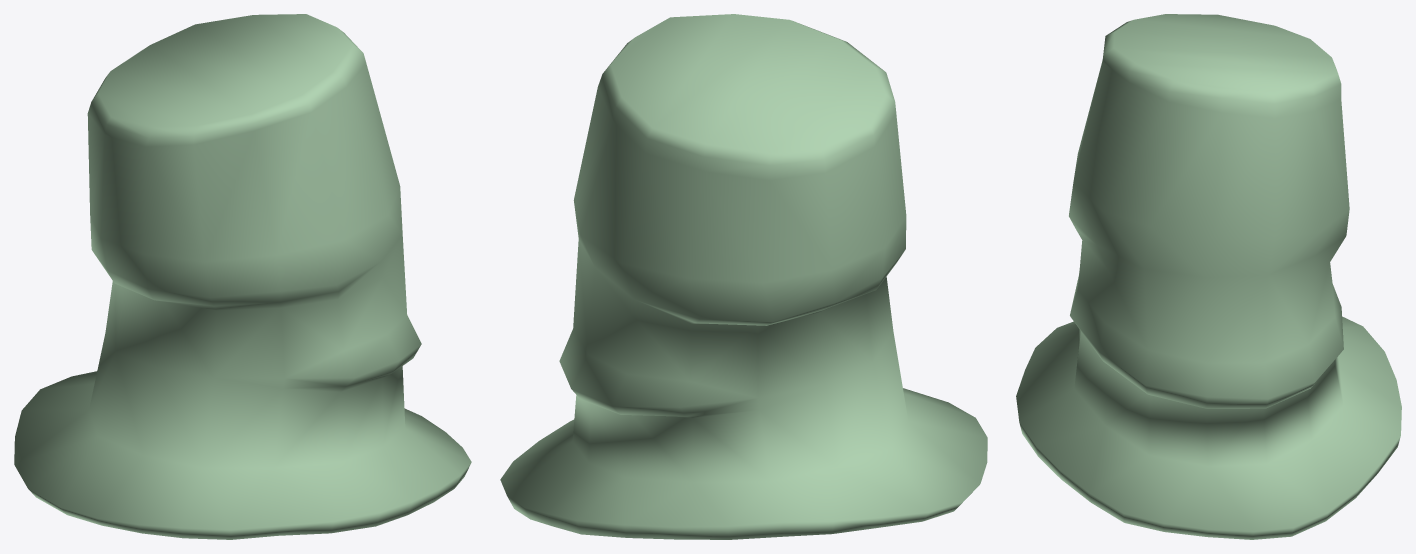
Rendered from DapperTopper.fbx.
3 views of the same model, side by side, from view 1: azimuth 30°, elevation 25°; view 2: azimuth 150°, elevation 25°; view 3: azimuth 270°, elevation 25° (orthographic). The views are drawn at different scales.
Parts seen in each view (by area): view 1: dappertopper_scout; view 2: dappertopper_scout; view 3: dappertopper_scout.
Boxes of the visible parts, x1=… form: dappertopper_scout: x1=14, y1=14, x2=471, y2=539; dappertopper_scout: x1=500, y1=14, x2=987, y2=539; dappertopper_scout: x1=1016, y1=14, x2=1401, y2=539.
Size of the model in its own units: 1201 by 1220 by 1034.
